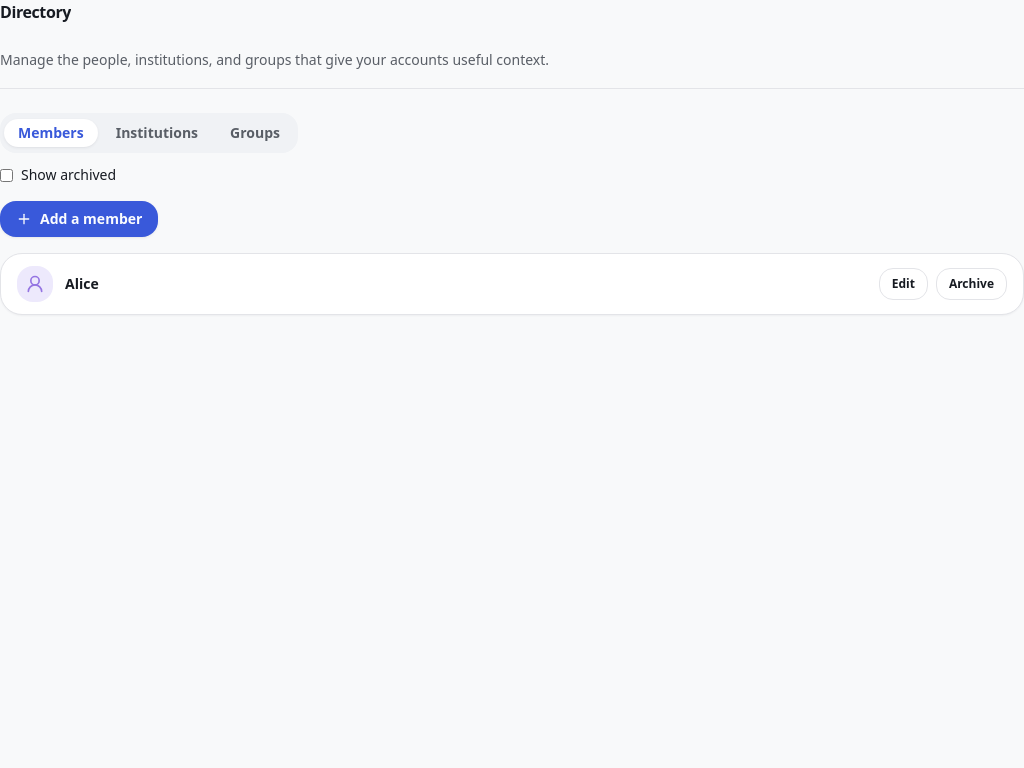
it: DirectoryPage › focuses the default Name field in Institutions and keeps Close keyboard accessible
expect the text "Alice" is shown: met, box [65,274,99,294]
Click the tab "Institutions". click: (157, 133)
box: [102,119,212,147]
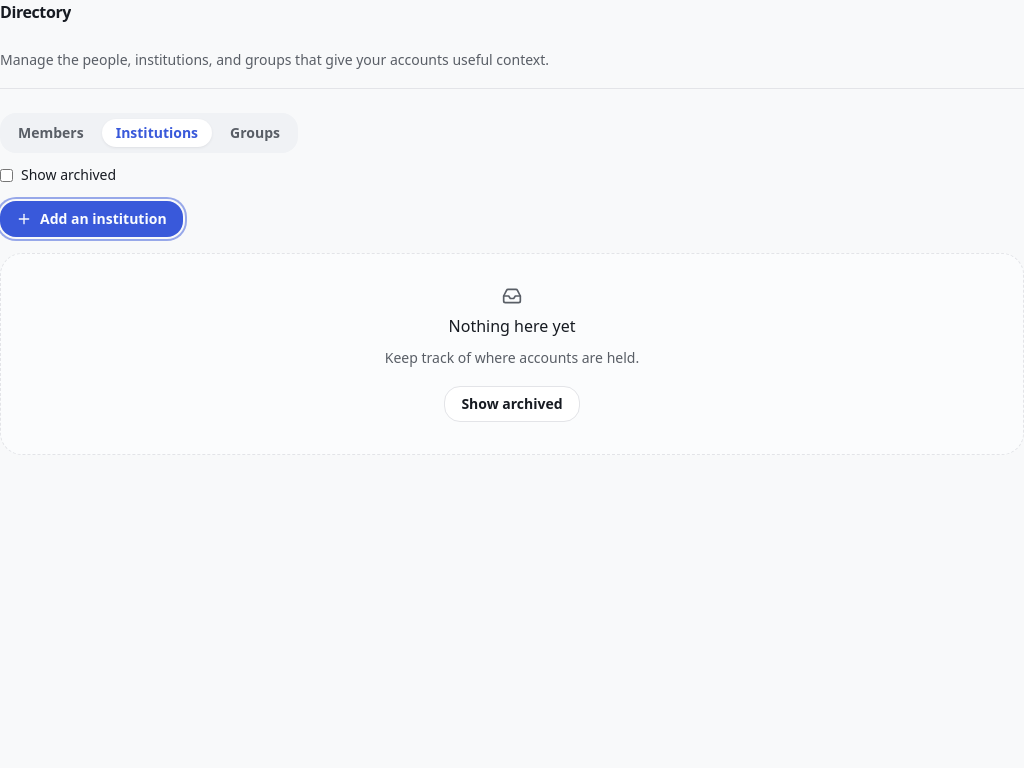
Press Enter
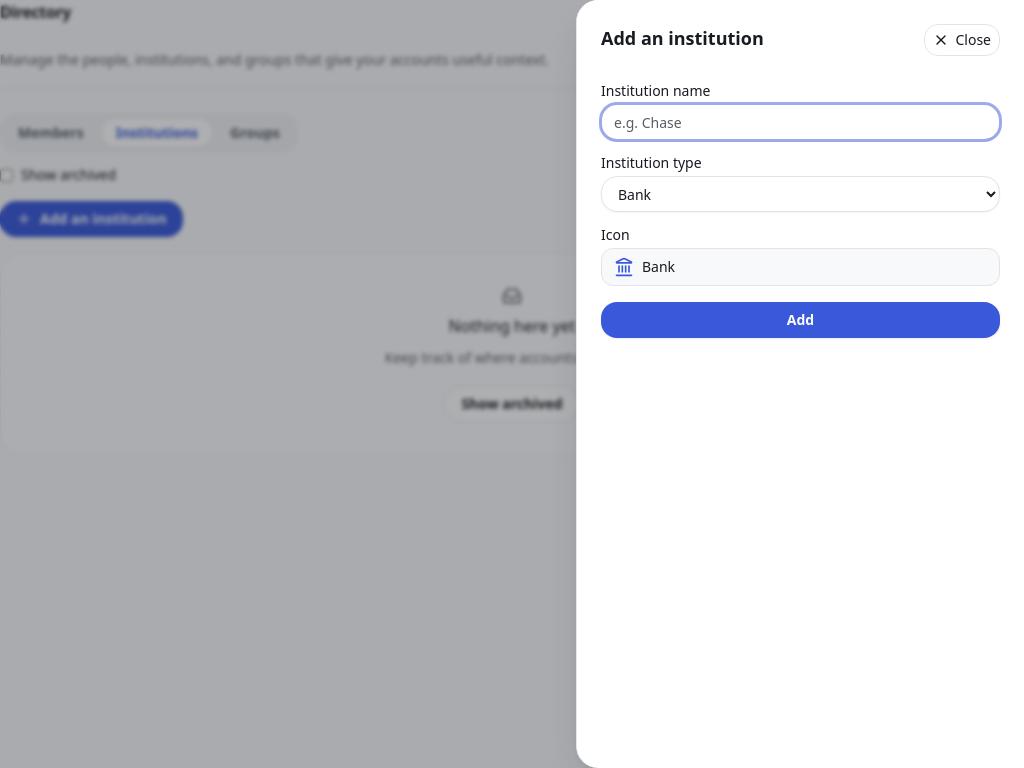
Type keys "Draft name"
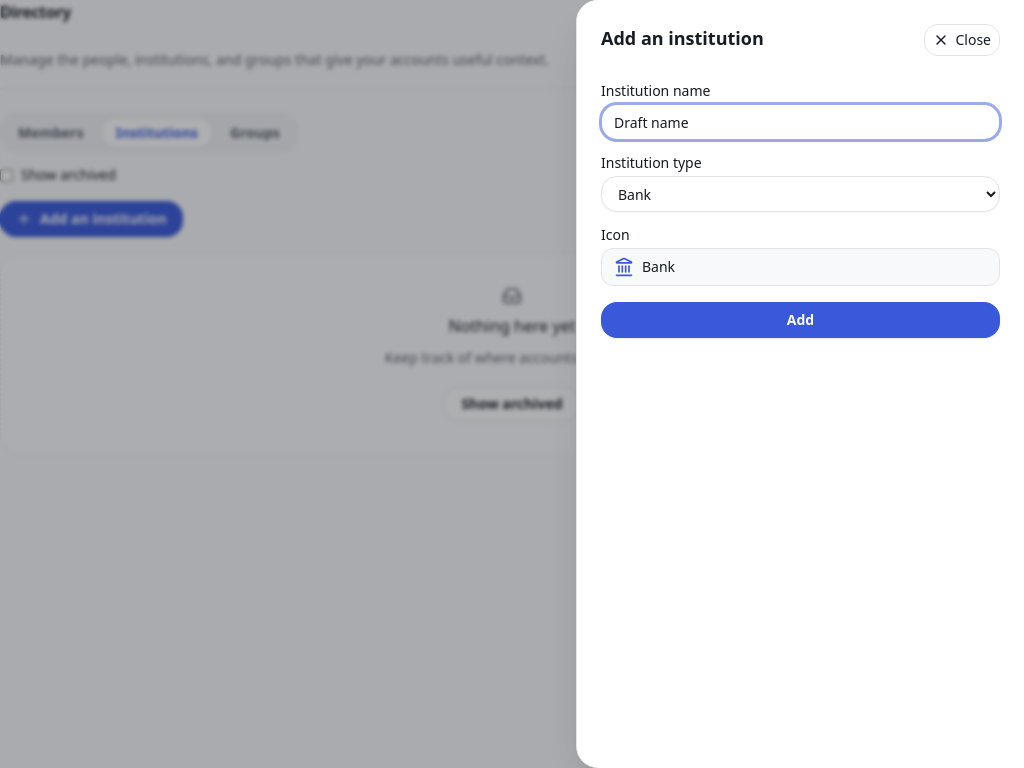
expect the field labelled "Institution name" holds "Draft name": met, box [601,104,1000,140]
Press Shift+Tab
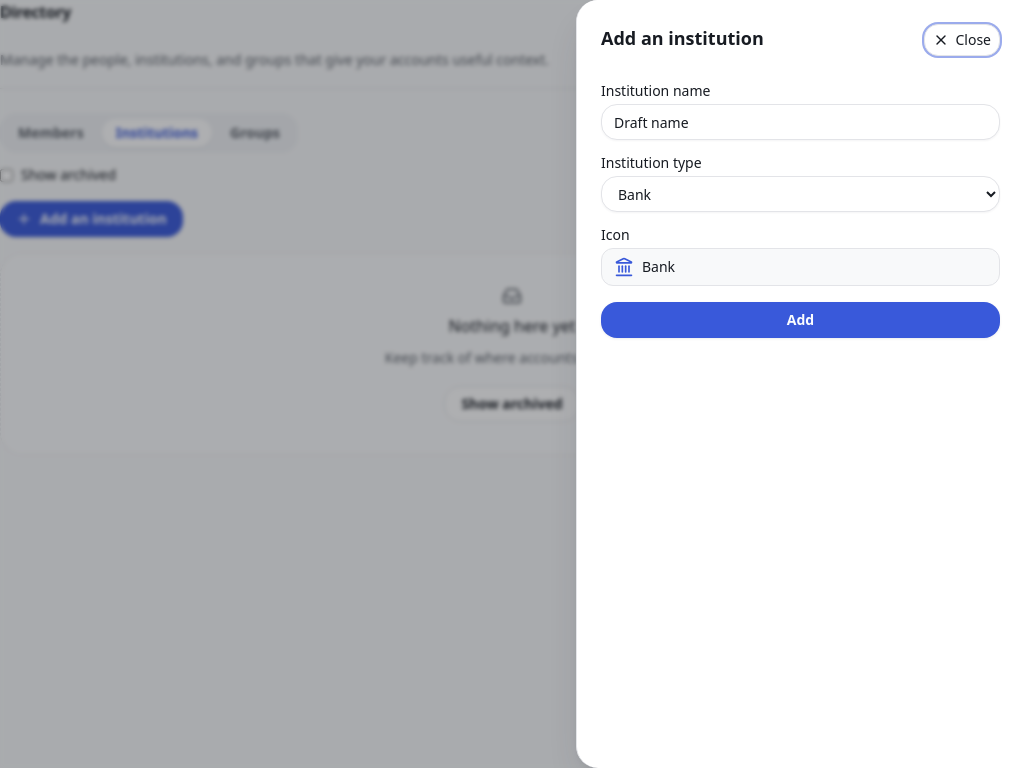
Type keys " "
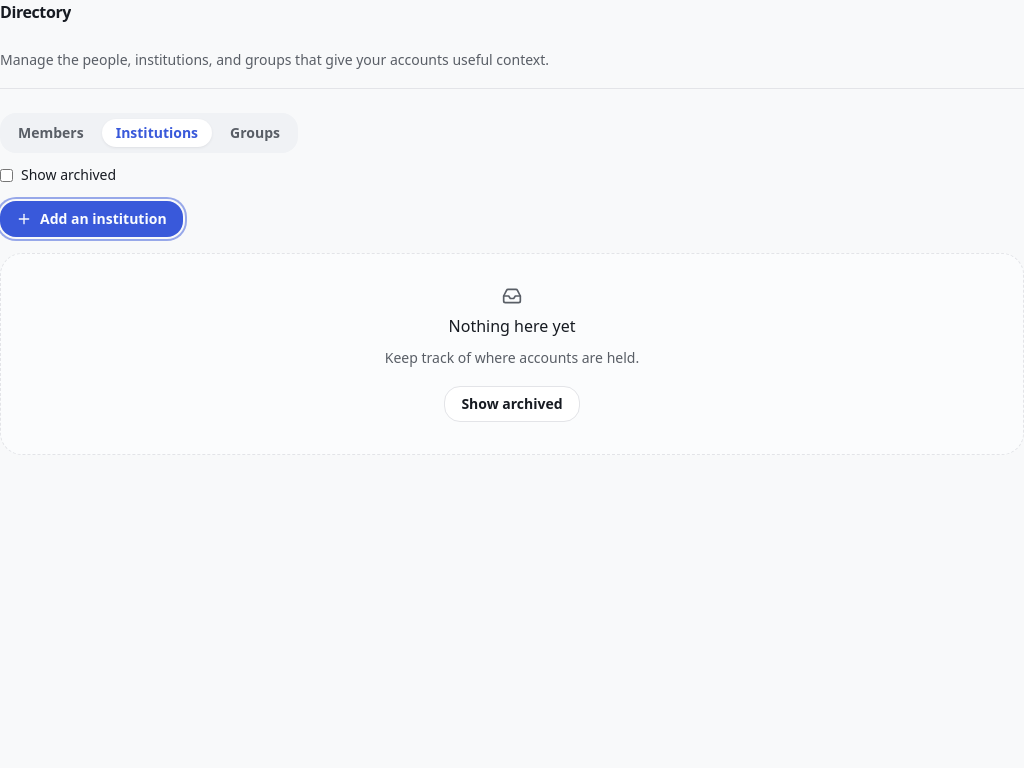
expect the dialog is gone: met
